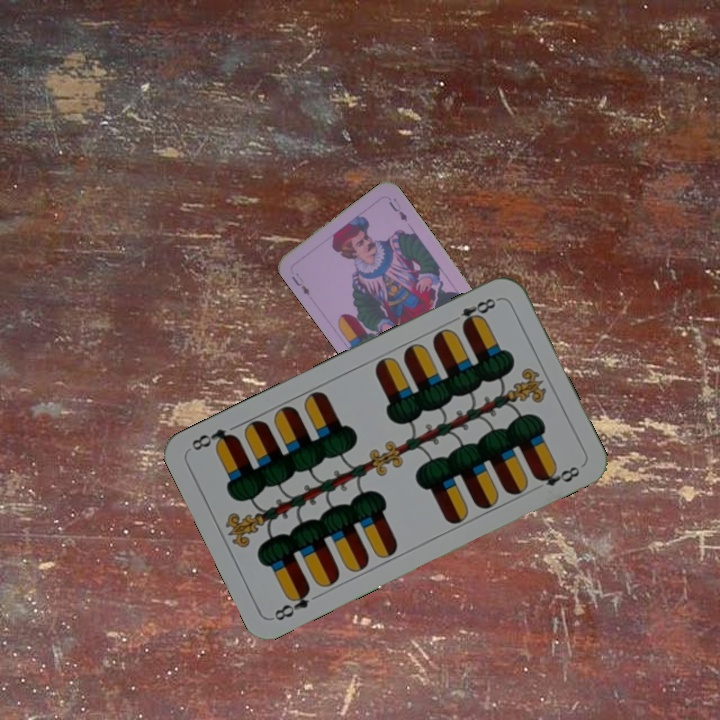E8: (270, 583, 313, 624), (457, 294, 502, 331)
EU: (287, 271, 312, 298)
